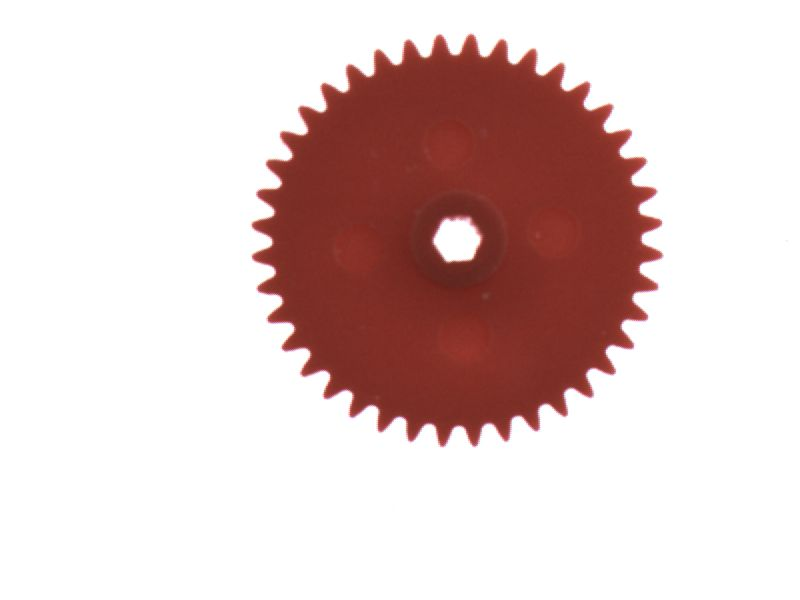good_product: (246, 30, 673, 458)
